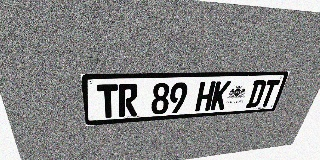8: (151, 83, 171, 115)
9: (168, 82, 189, 113)
D: (245, 80, 267, 108)
H: (195, 81, 216, 112)
K: (210, 81, 231, 110)
R: (118, 83, 138, 117)
T: (97, 84, 118, 118), (258, 80, 280, 107)
